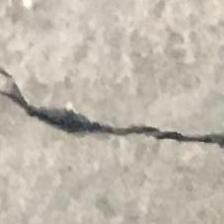Crack: (0, 64, 224, 162)
